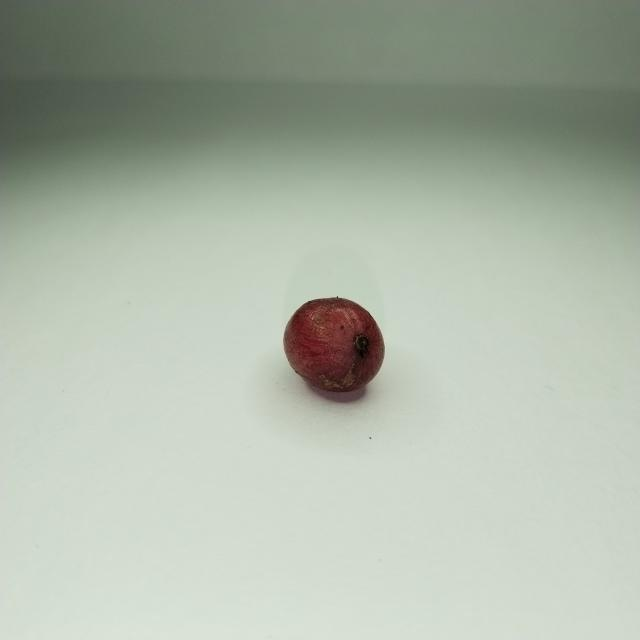Infectado: (283, 297, 385, 392)
